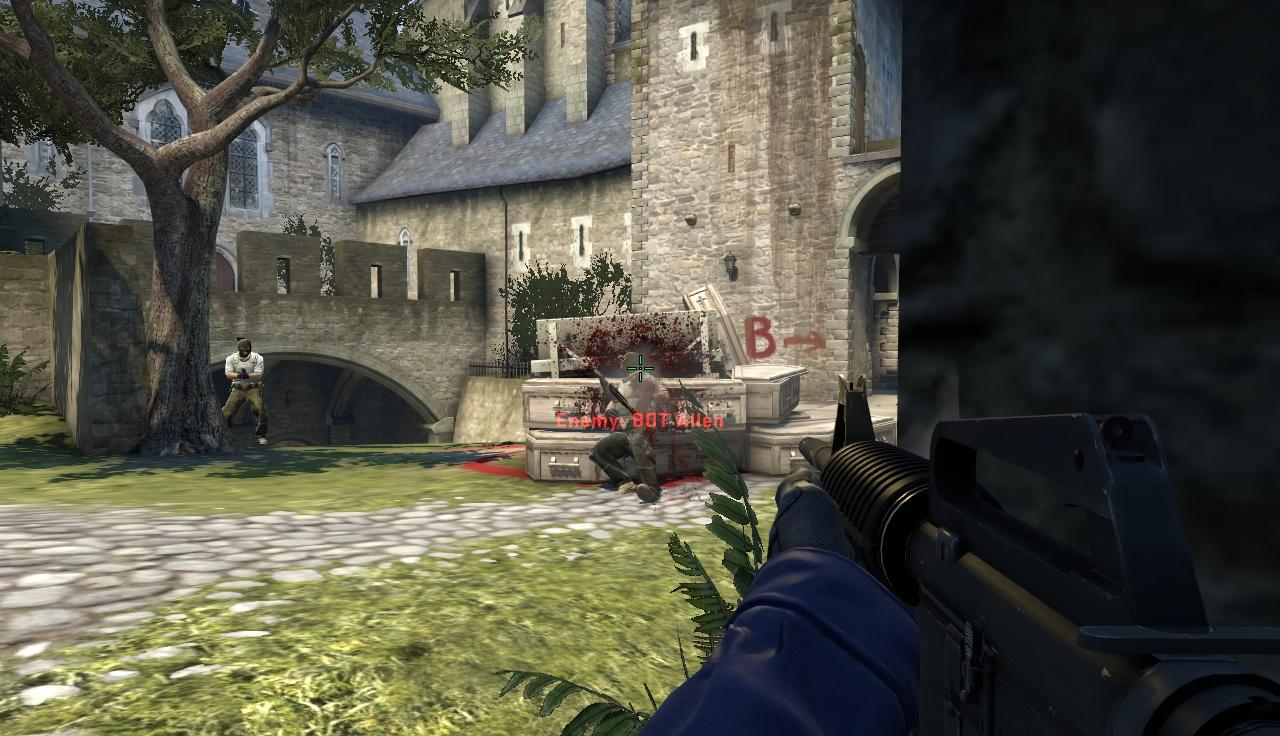rifle: (788, 373, 1280, 736)
tt: (225, 338, 266, 446)
tthead: (238, 339, 251, 358)
